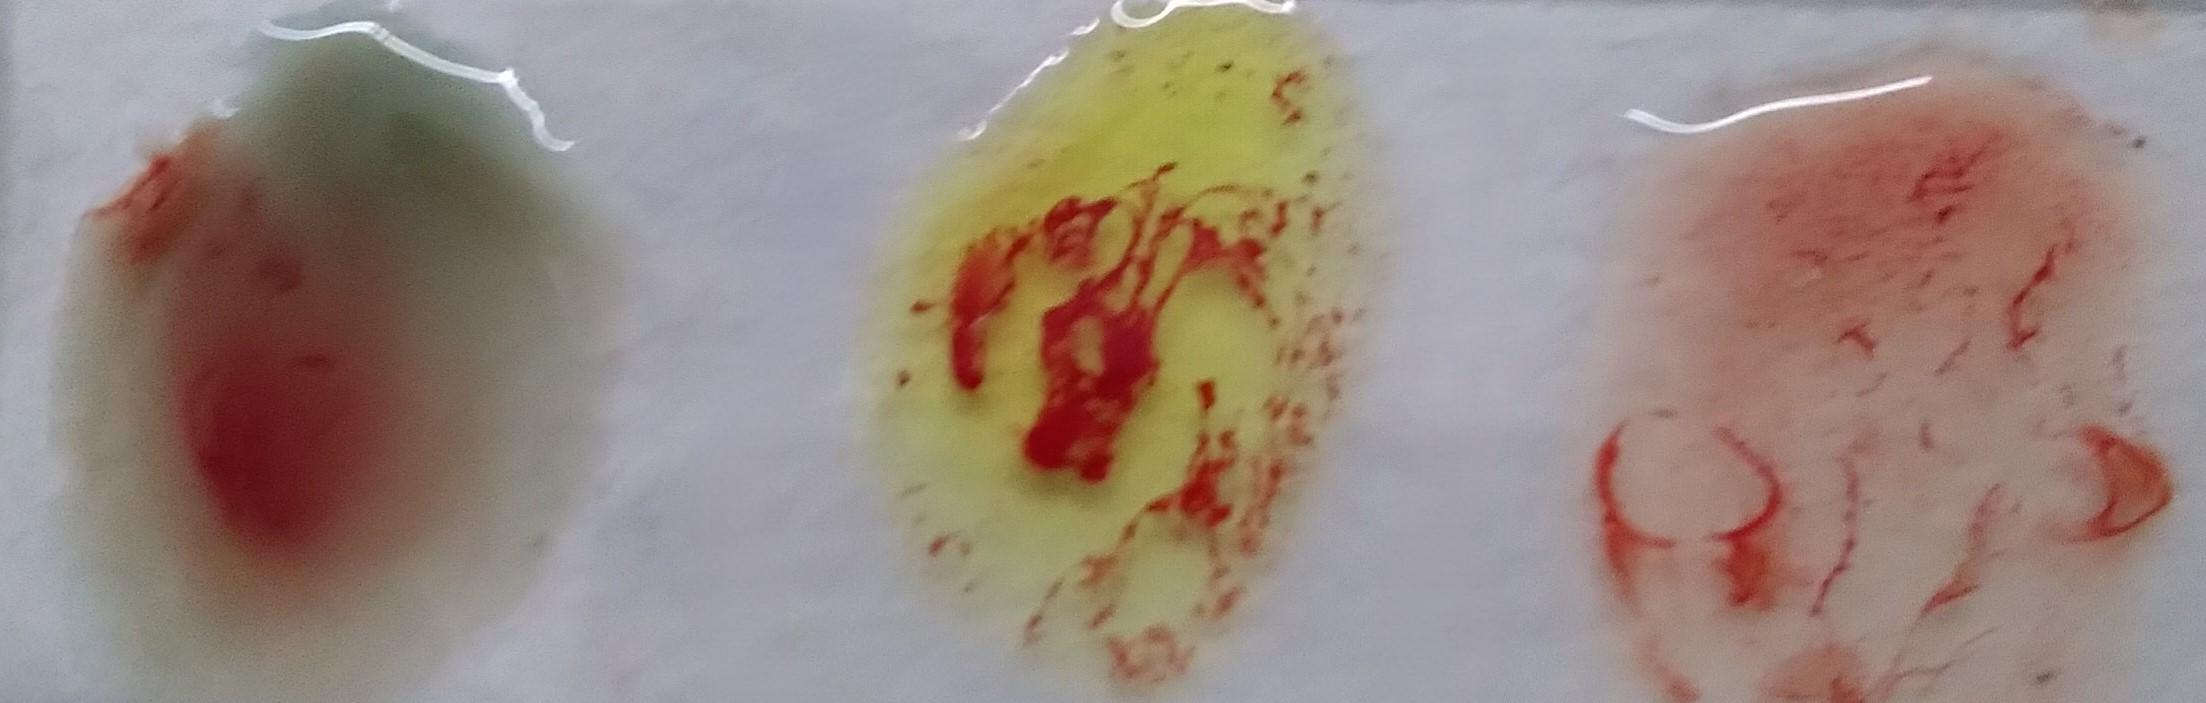B: (886, 22, 1332, 703)
D: (1593, 84, 2161, 703)
